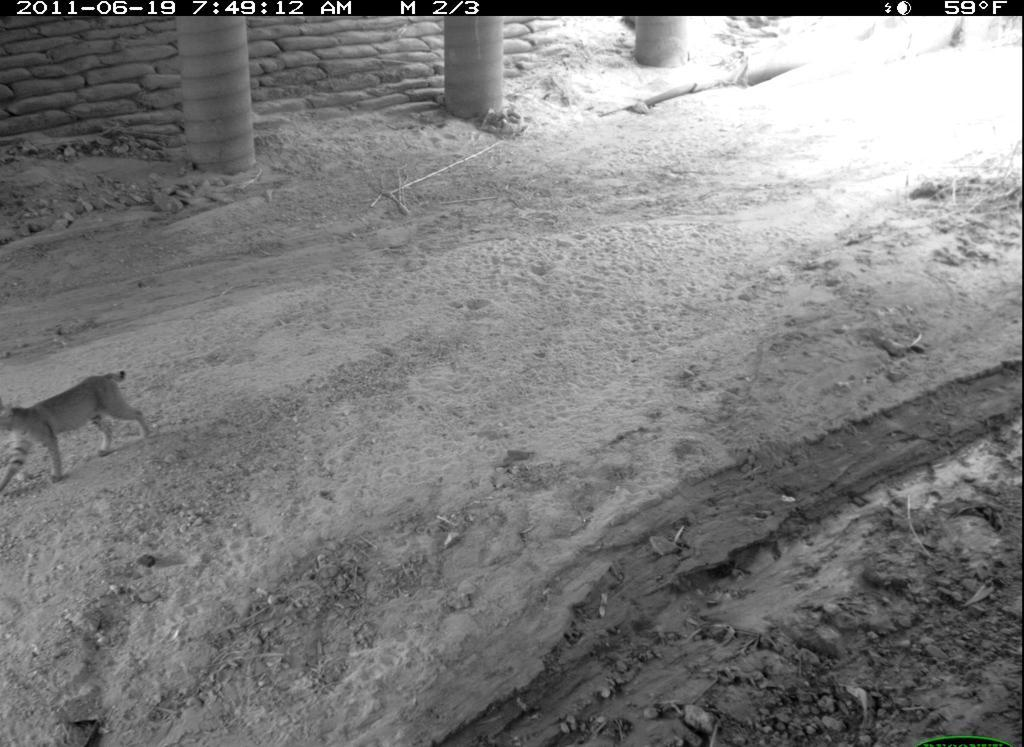bobcat: (1, 367, 158, 495)
